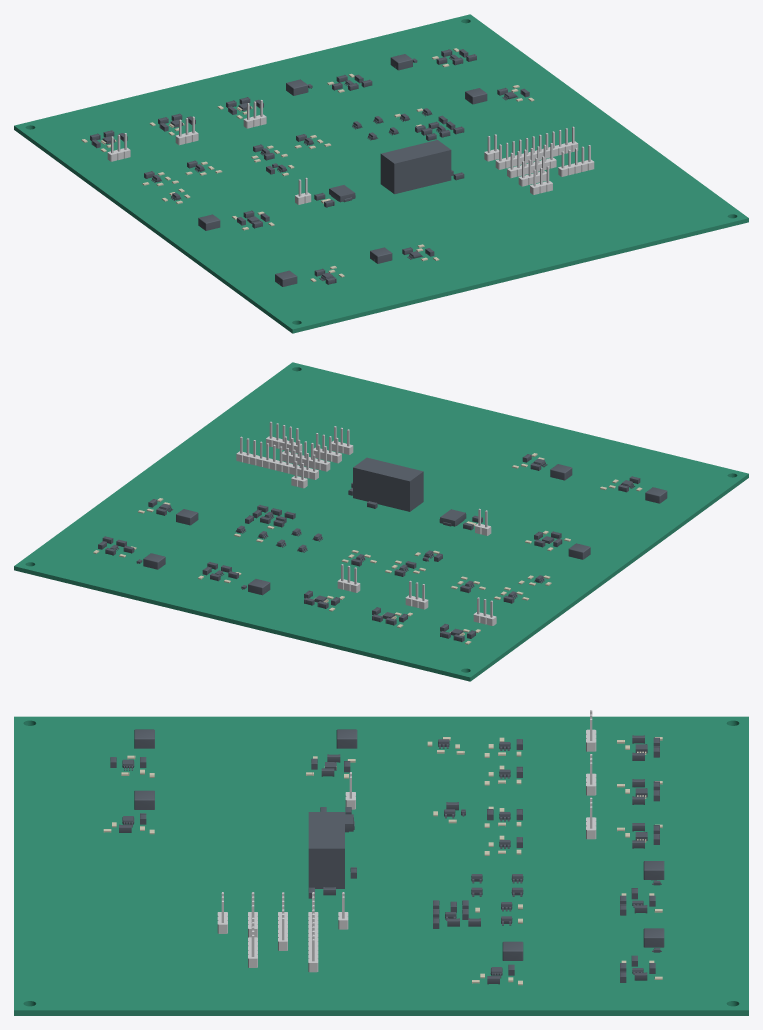
Rendered from power.glb.
3 views of the same model, one above another, from view 1: azimuth 30°, elevation 25°; view 2: azimuth 150°, elevation 25°; view 3: azimuth 270°, elevation 25° (orthographic). The views are drawn at different scales.
Parts seen in each view (by area): view 1: PCB, U60400, J60002, J60003, J60005; view 2: PCB, U60400, J60002, J60003, J60005; view 3: PCB, U60400, J60002.
Boxes of the visible parts, left/top/right/bottom form: PCB: left=14, top=14, right=748, bottom=333; U60400: left=380, top=140, right=451, bottom=194; J60002: left=495, top=126, right=578, bottom=169; J60003: left=507, top=143, right=556, bottom=178; J60005: left=558, top=145, right=594, bottom=176; PCB: left=14, top=362, right=748, bottom=681; U60400: left=353, top=457, right=423, bottom=511; J60002: left=236, top=436, right=318, bottom=479; J60003: left=282, top=436, right=330, bottom=471; J60005: left=266, top=421, right=302, bottom=453; PCB: left=14, top=716, right=748, bottom=1015; U60400: left=308, top=812, right=344, bottom=888; J60002: left=308, top=892, right=318, bottom=972.
Size of the model in its own units: 0.175 by 0.0146 by 0.185.
